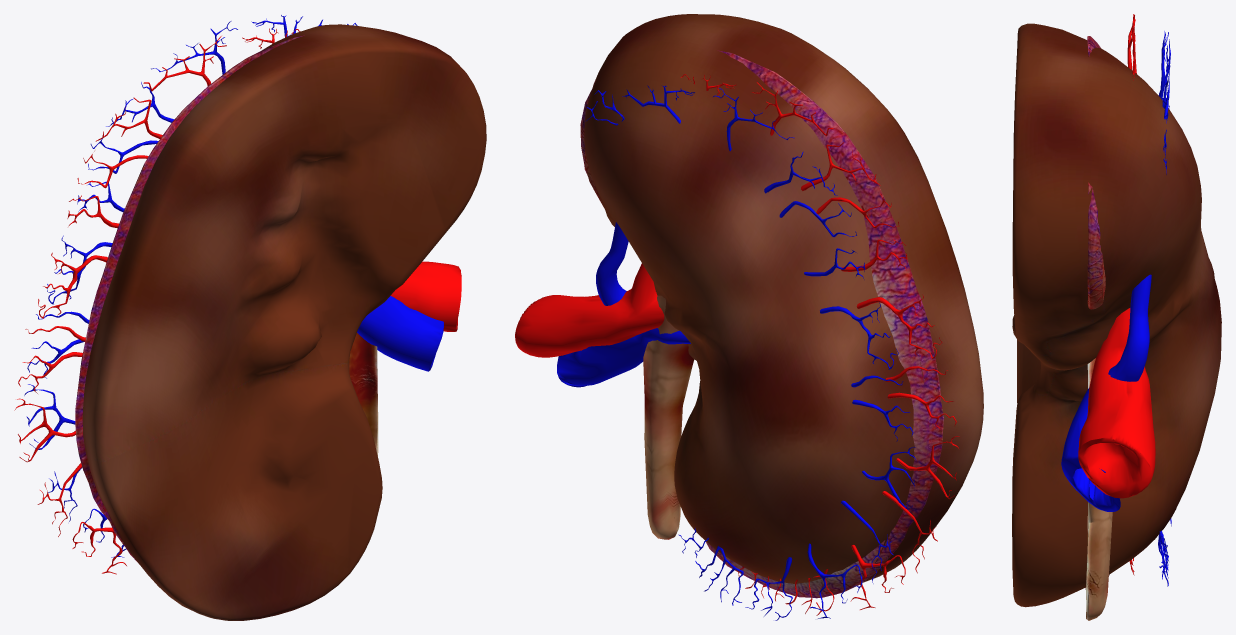
Rendered from kidney.mobile.glb.
The picture shows the model from 3 angles, left to right: view 1: azimuth 30°, elevation 25°; view 2: azimuth 150°, elevation 25°; view 3: azimuth 270°, elevation 25°; orthographic projection. The views are drawn at different scales.
Visible parts, largest first — view 1: Maya_2018:Capsule, Maya_2018:BLUE, Maya_2018:RED, Maya_2018:Cortex, Maya_2018:Ureter; view 2: Maya_2018:Capsule, Maya_2018:Cortex, Maya_2018:RED, Maya_2018:BLUE, Maya_2018:Ureter; view 3: Maya_2018:Capsule, Maya_2018:RED, Maya_2018:BLUE, Maya_2018:Ureter, Maya_2018:Cortex.
Boxes of the visible parts, box(x1,y1,x2,y2) form: Maya_2018:Capsule: box(82, 24, 486, 620); Maya_2018:BLUE: box(24, 15, 443, 557); Maya_2018:RED: box(14, 28, 461, 574); Maya_2018:Cortex: box(75, 35, 304, 564); Maya_2018:Ureter: box(349, 333, 378, 456); Maya_2018:Capsule: box(584, 14, 983, 583); Maya_2018:Cortex: box(580, 50, 943, 598); Maya_2018:RED: box(515, 74, 959, 615); Maya_2018:BLUE: box(557, 85, 916, 620); Maya_2018:Ureter: box(643, 295, 694, 539); Maya_2018:Capsule: box(1012, 23, 1221, 607); Maya_2018:RED: box(1078, 14, 1155, 575); Maya_2018:BLUE: box(1061, 31, 1171, 586); Maya_2018:Ureter: box(1086, 358, 1112, 620); Maya_2018:Cortex: box(1085, 36, 1109, 589).
Size of the model in its own units: 268987 by 317472 by 104881.
6 materials, 4 textured.
